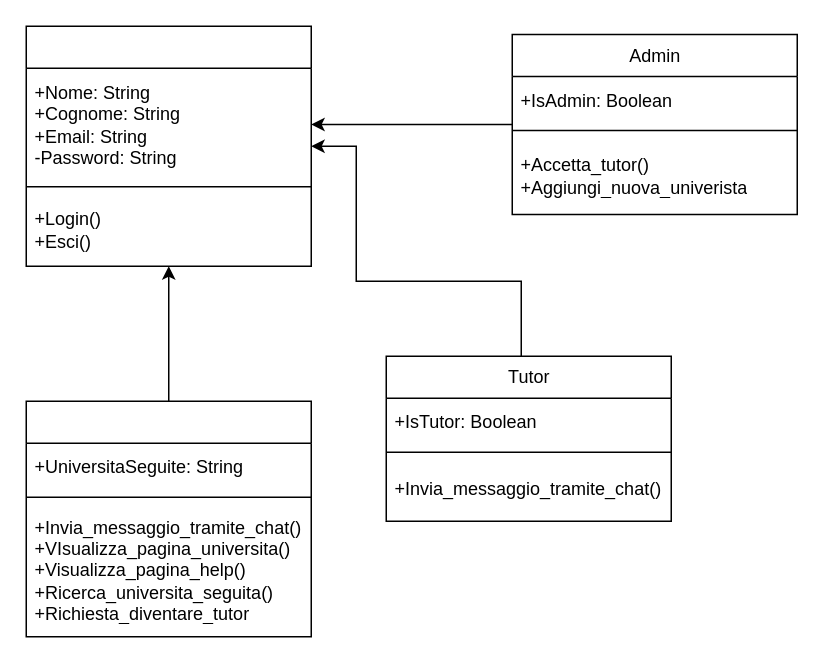
This 824x663 diagram has some shape labels left out. Here are the shapes that lost their labels. From the top down, the box of each, then its label:
(25, 25, 311, 266): Utente
(25, 400, 311, 637): Utente Autenticato
